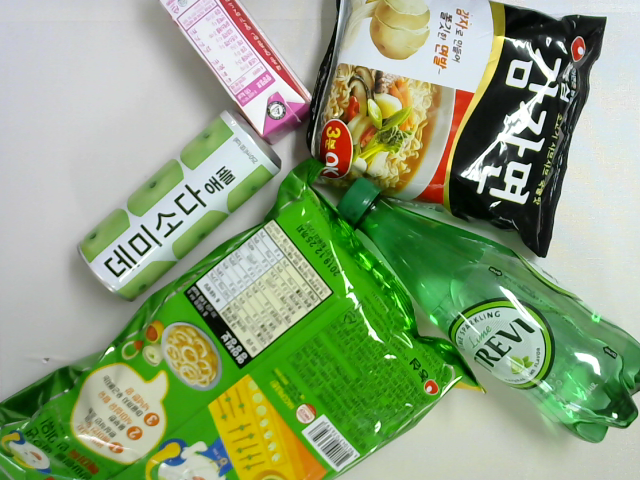Demisoda_Apple_Can_250ml: (76, 107, 282, 302)
Oninon_Ring: (1, 158, 488, 480)
Potato: (307, 1, 608, 258)
Strawberry_E_Mong: (158, 1, 315, 145)
Treviraim_500ml: (334, 180, 640, 443)
